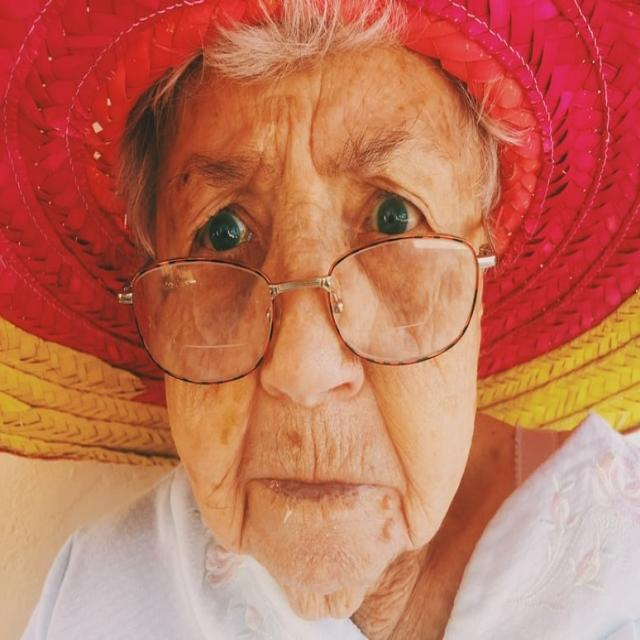Wrinkles: (310, 97, 320, 157), (283, 110, 291, 179)
